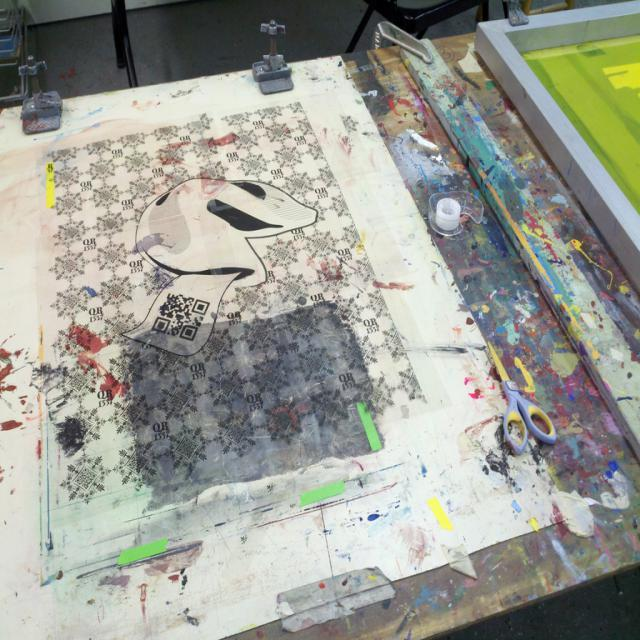qrcode: (152, 293, 211, 342)
